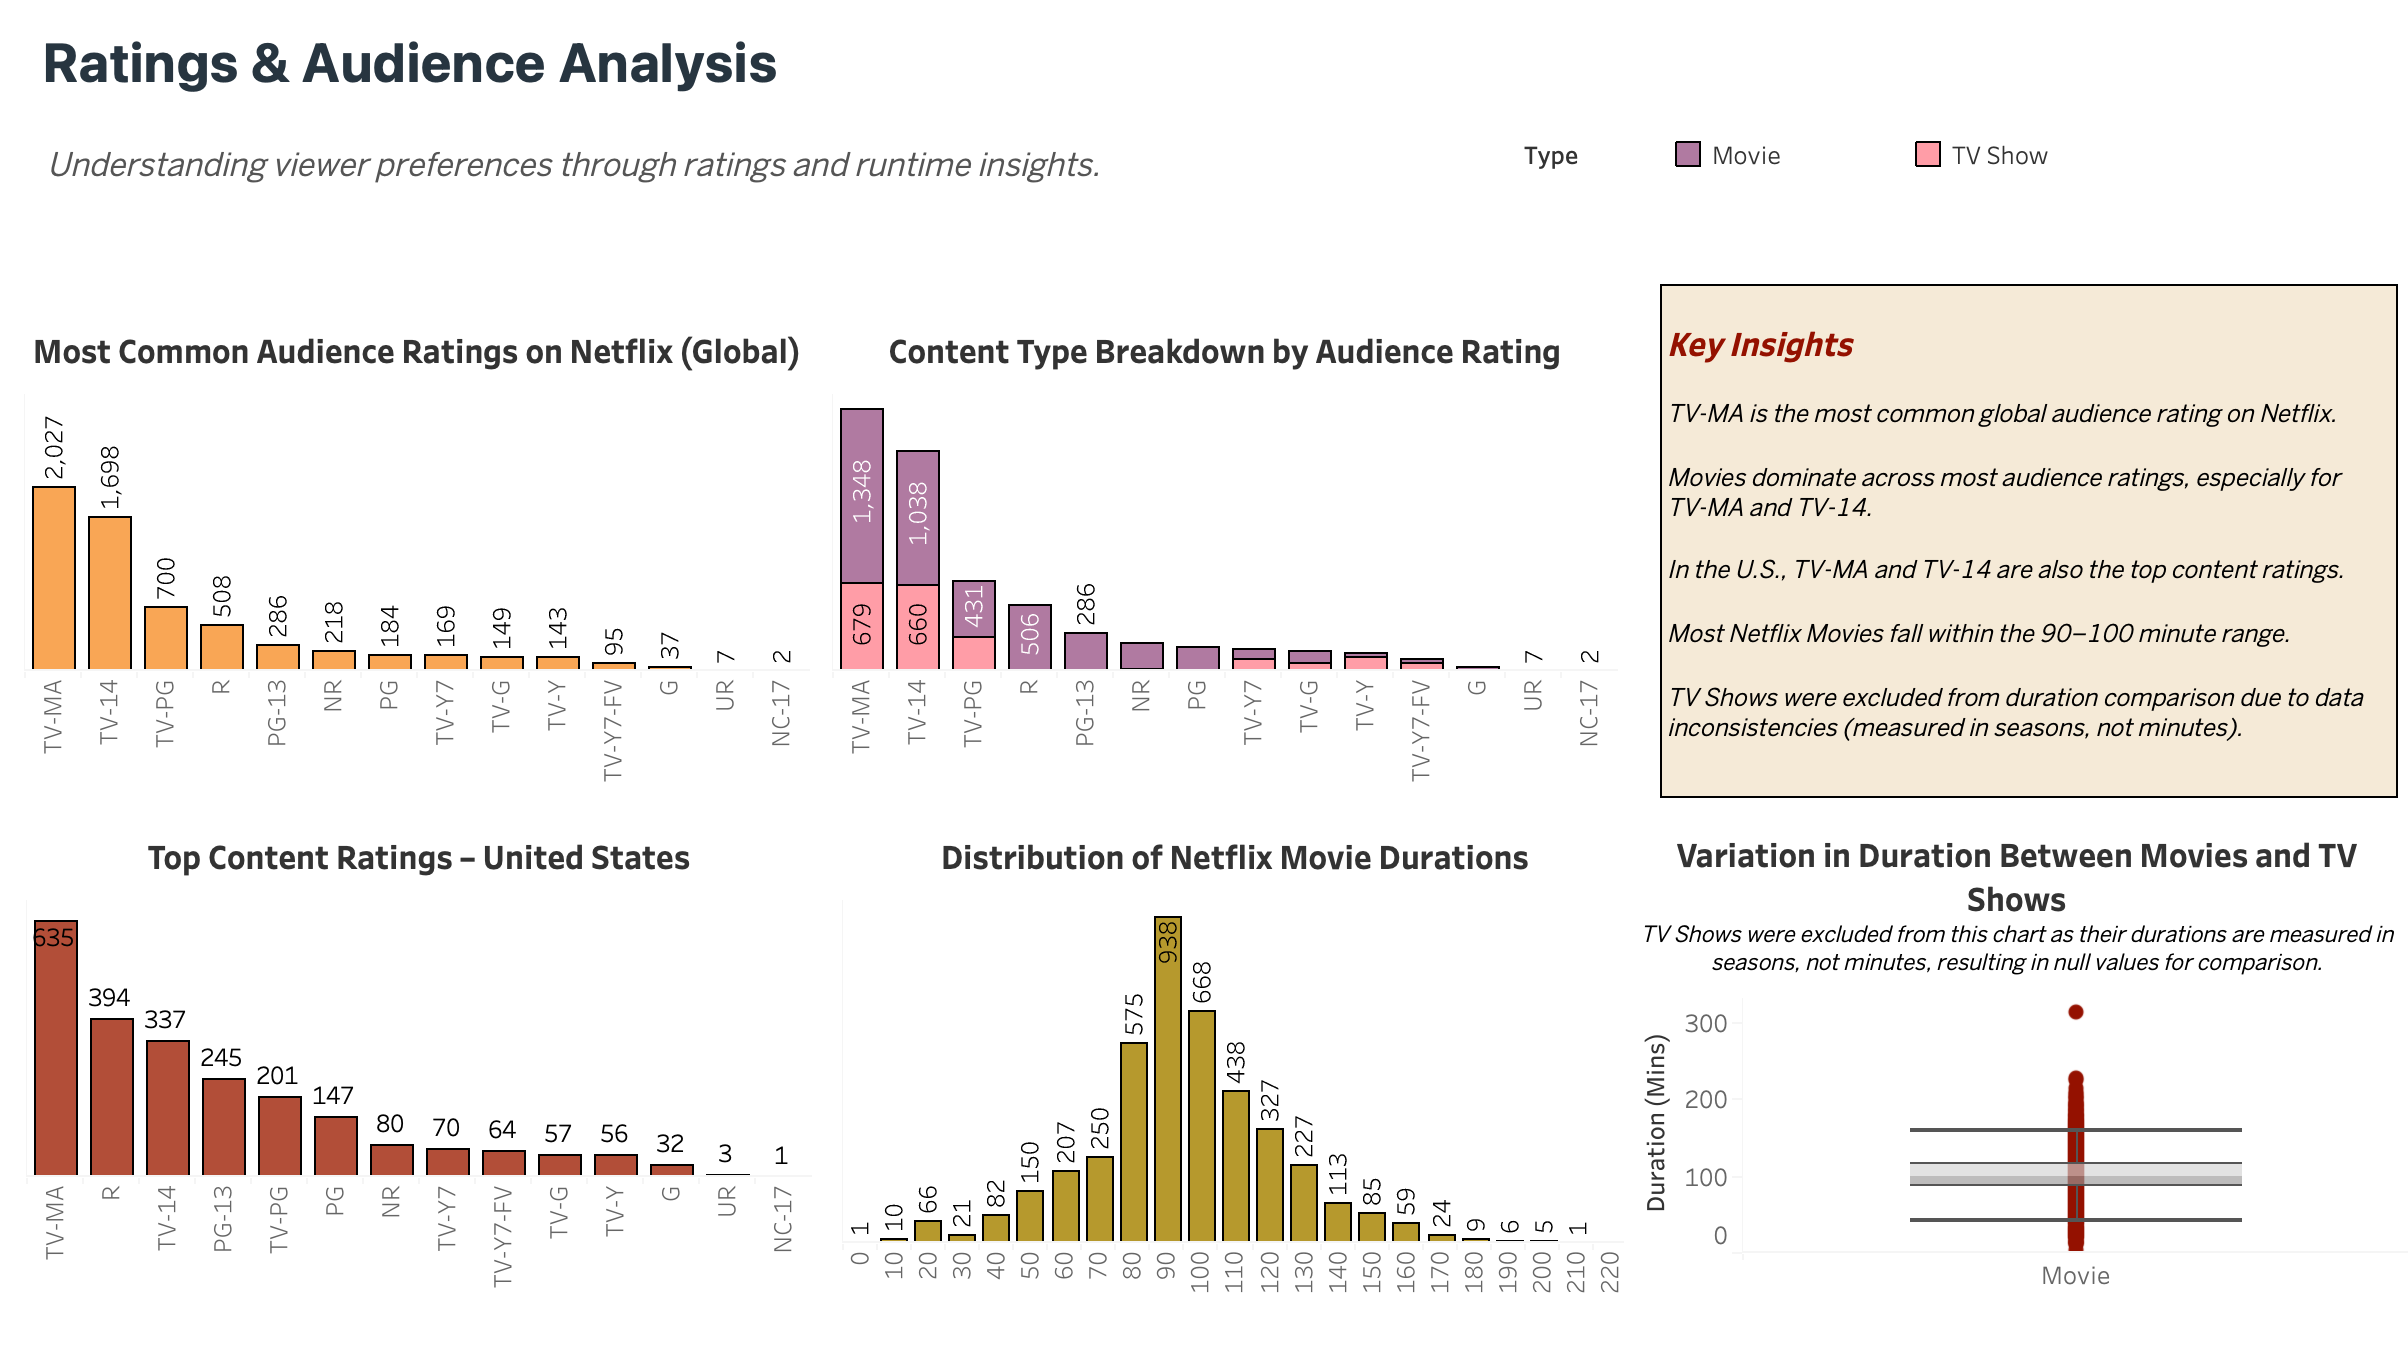

Layout of this report page (visuals, bound fields, positions):
{"tool":"tableau","page":{"name":"Dashboard 3","canvas":[1000,1000],"units":"permille","ordinal":2},"visuals":[{"type":"text","box":[23.8,23.9,306.6,69.1]},{"type":"text","box":[25.4,93.9,517.2,63.6]},{"type":"legend","title":"Content Type Breakdown by Audience Rating","param":"[federated.110b1el1jmqzdr139iwak1e4xaev].[none:type:nk]","box":[632.8,106.1,332.8,39.4]},{"type":"text","box":[688.5,206.1,302.5,340.9]},{"type":"worksheet","title":"Most Common Audience Ratings on Netflix (Global)","mark":"Automatic","rows":["title"],"cols":["rating"],"box":[18,228.8,322.1,312.1]},{"type":"worksheet","title":"Content Type Breakdown by Audience Rating","mark":"Automatic","rows":["title"],"cols":["rating"],"box":[349.2,228.8,322.1,312.1]},{"type":"worksheet","title":"Variation in Duration Between Movies and TV Shows","mark":"Circle","rows":["duration_minutes"],"cols":["type"],"box":[673.8,563.6,322.1,312.1]},{"type":"worksheet","title":"Top Content Ratings – United States","mark":"Automatic","rows":["title"],"cols":["rating"],"box":[18.9,565.1,322.1,312.1]},{"type":"worksheet","title":"Distribution of Netflix Movie Durations","mark":"Automatic","rows":["title"],"cols":["Duration Minutes (copy) (bin)"],"box":[353.3,565.1,322.1,312.1]}]}

Visuals, with their boxes on the dashboard's canvas, which has no fixed pixel size, in thousandths of its width and height (x1, y1, x2, y2). These are canvas units, not pixel positions in the 2408x1352 screenshot, which may show the page scaled, cropped or inside an application window:
text: 24/24/330/93
text: 25/94/543/158
"Content Type Breakdown by Audience Rating" legend: 633/106/966/146
text: 688/206/991/547
"Most Common Audience Ratings on Netflix (Global)" worksheet: 18/229/340/541
"Content Type Breakdown by Audience Rating" worksheet: 349/229/671/541
"Variation in Duration Between Movies and TV Shows" worksheet (Circle marks): 674/564/996/876
"Top Content Ratings – United States" worksheet: 19/565/341/877
"Distribution of Netflix Movie Durations" worksheet: 353/565/675/877
